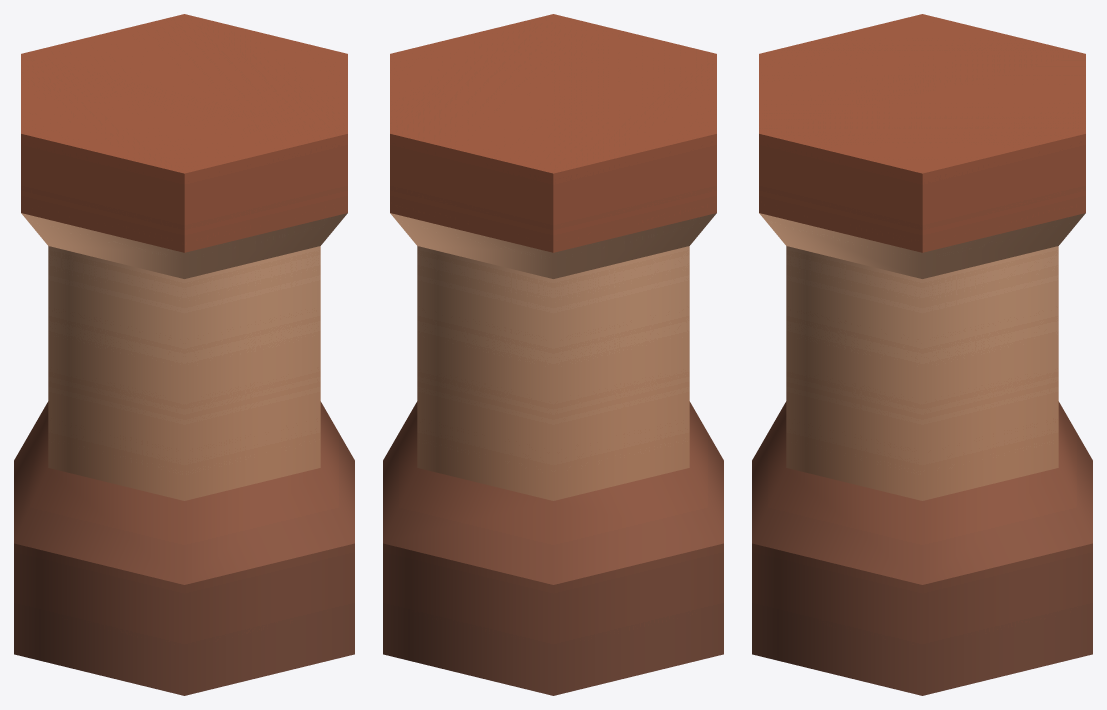
Rendered from tower-hexagon-base.glb.
3 views of the same model, side by side, from view 1: azimuth 30°, elevation 25°; view 2: azimuth 150°, elevation 25°; view 3: azimuth 270°, elevation 25° (orthographic).
Parts seen in each view (by area): view 1: tower-hexagon-base; view 2: tower-hexagon-base; view 3: tower-hexagon-base.
Boxes of the visible parts, bbox=[...] form: tower-hexagon-base: bbox=[14, 14, 354, 695]; tower-hexagon-base: bbox=[383, 14, 723, 695]; tower-hexagon-base: bbox=[752, 14, 1092, 695].
Size of the model in its own units: 2.7 by 3.93 by 2.34.
1 material, 1 textured.
